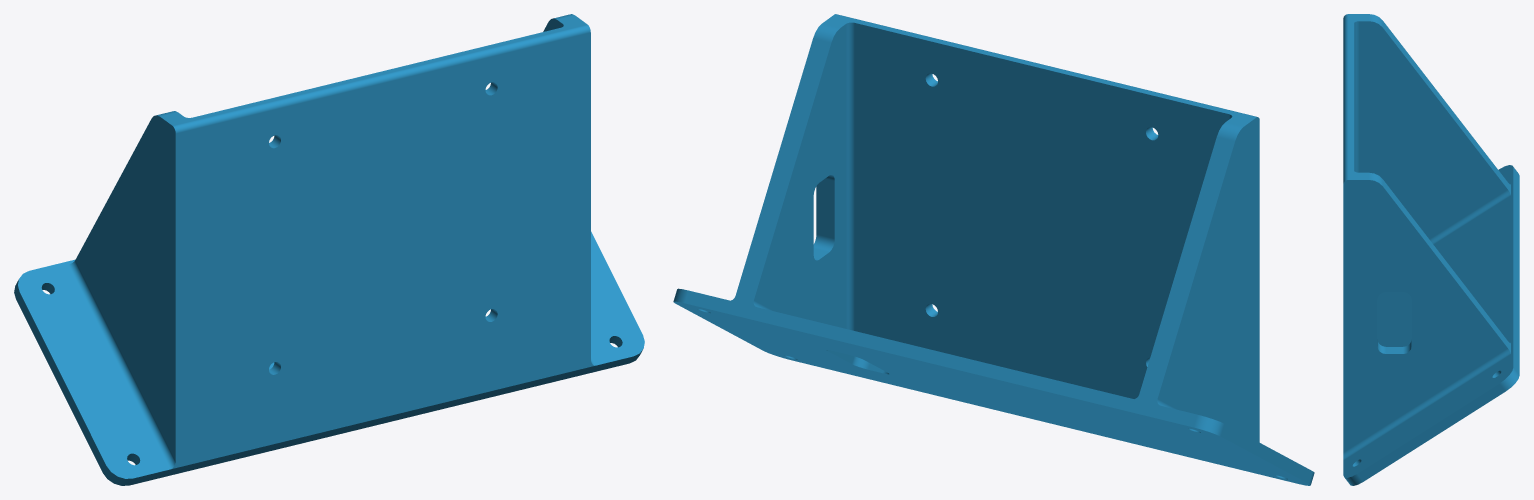
3 views of the same model, side by side, from view 1: azimuth 30°, elevation 25°; view 2: azimuth 150°, elevation 25°; view 3: azimuth 270°, elevation 25° (orthographic). The views are drawn at different scales.
Parts seen in each view (by area): view 1: mesh13196, mesh13190, mesh13178, mesh13191, mesh13177, mesh13180, mesh13192, mesh13161; view 2: mesh13197, mesh13190, mesh13158, mesh13203, mesh13160, mesh13188, mesh13181, mesh13185, mesh13192, mesh13161, mesh13205; view 3: mesh13202, mesh13193, mesh13178, mesh13159, mesh13179, mesh13160, mesh13192, mesh13181, mesh13188, mesh13191, mesh13194, mesh13187 (+1 smaller).
Part boxes in pixels (x1=…): mesh13196: x1=172, y1=32, x2=594, y2=468; mesh13190: x1=75, y1=115, x2=175, y2=460; mesh13178: x1=18, y1=231, x2=644, y2=478; mesh13191: x1=173, y1=24, x2=590, y2=133; mesh13177: x1=129, y1=356, x2=632, y2=485; mesh13180: x1=68, y1=260, x2=175, y2=469; mesh13192: x1=160, y1=15, x2=587, y2=125; mesh13161: x1=16, y1=292, x2=106, y2=472; mesh13197: x1=854, y1=23, x2=1229, y2=398; mesh13190: x1=1157, y1=117, x2=1259, y2=442; mesh13158: x1=673, y1=301, x2=1310, y2=485; mesh13203: x1=754, y1=24, x2=845, y2=328; mesh13160: x1=685, y1=290, x2=1197, y2=427; mesh13188: x1=1134, y1=137, x2=1234, y2=404; mesh13181: x1=731, y1=38, x2=831, y2=306; mesh13185: x1=846, y1=22, x2=854, y2=330; mesh13192: x1=822, y1=14, x2=1255, y2=126; mesh13161: x1=1221, y1=424, x2=1312, y2=483; mesh13205: x1=816, y1=179, x2=834, y2=238; mesh13202: x1=1343, y1=180, x2=1507, y2=452; mesh13193: x1=1359, y1=21, x2=1507, y2=238; mesh13178: x1=1343, y1=165, x2=1513, y2=477; mesh13159: x1=1357, y1=383, x2=1505, y2=481; mesh13179: x1=1343, y1=348, x2=1510, y2=460; mesh13160: x1=1513, y1=168, x2=1519, y2=374; mesh13192: x1=1348, y1=14, x2=1368, y2=179; mesh13181: x1=1383, y1=180, x2=1510, y2=353; mesh13188: x1=1383, y1=21, x2=1510, y2=194; mesh13191: x1=1343, y1=14, x2=1348, y2=183; mesh13194: x1=1354, y1=21, x2=1359, y2=172; mesh13187: x1=1429, y1=190, x2=1510, y2=244.
Size of the model in its own units: 0.1486 by 0.0926 by 0.0516.
